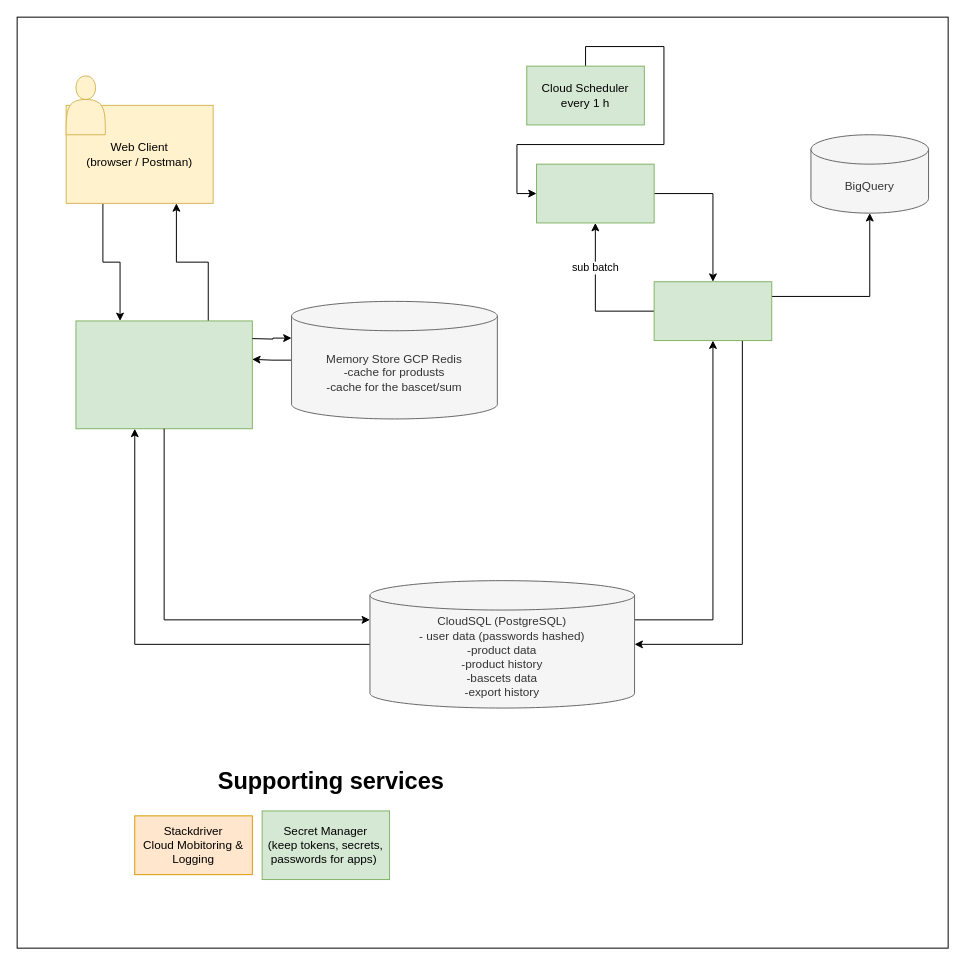
Some shapes in this 965 by 965 pixel diagram are drawn without their labels. Here are the shapes that lost their labels. From the top down, the centre of each, then its label:
point (595, 193): Pub/Sub
point (712, 311): Exporter Worker (Cloud Function)
point (163, 374): Fast API (Cloud AppEngine -> Cloud Run)
